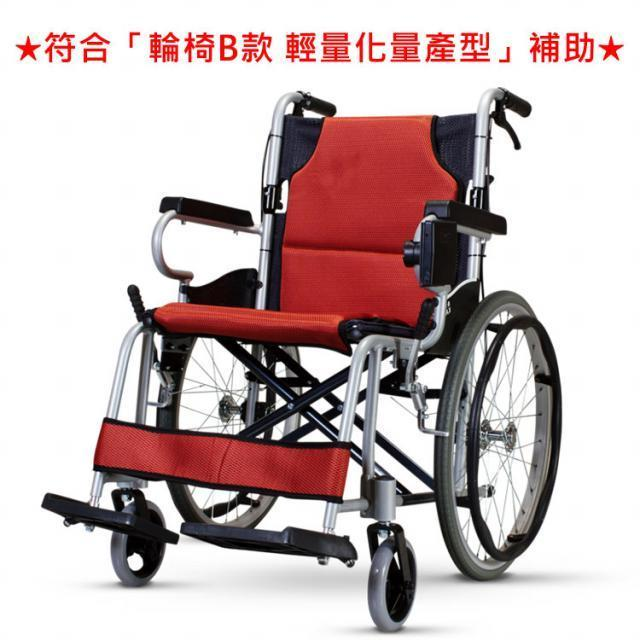wheelchairs: (40, 88, 563, 628)
